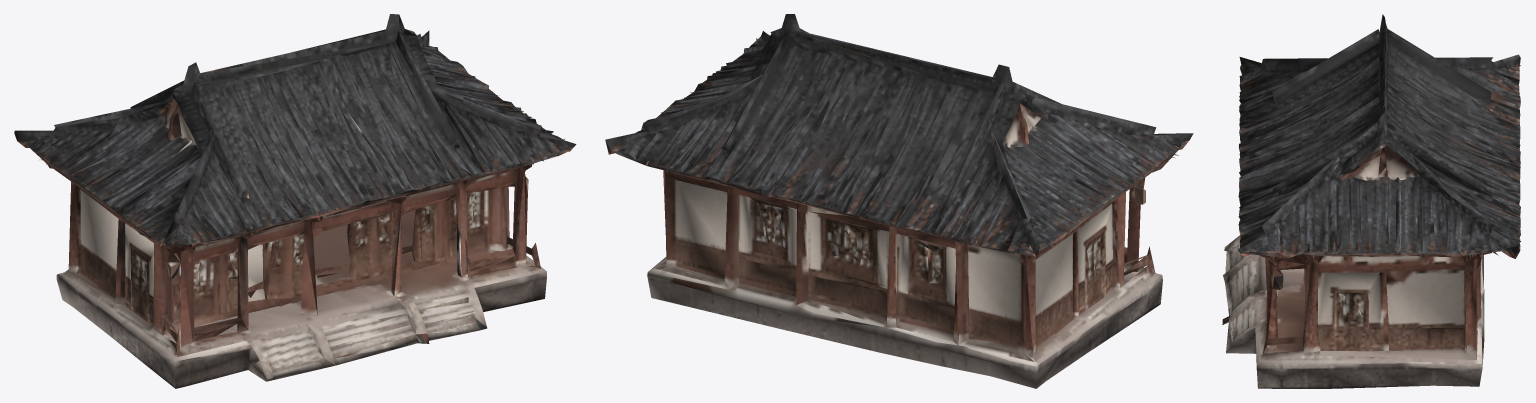
Rendered from 20_Market_Guild_Hall_LOD2.fbx.
3 renders of one model, left to right at view 1: azimuth 30°, elevation 25°; view 2: azimuth 150°, elevation 25°; view 3: azimuth 270°, elevation 25°, orthographic. The views are drawn at different scales.
Visible parts, largest first — view 1: 20_Market_Guild_Hall_L2; view 2: 20_Market_Guild_Hall_L2; view 3: 20_Market_Guild_Hall_L2.
Part boxes in pixels (x1=…): 20_Market_Guild_Hall_L2: x1=14, y1=14, x2=576, y2=388; 20_Market_Guild_Hall_L2: x1=605, y1=14, x2=1193, y2=388; 20_Market_Guild_Hall_L2: x1=1222, y1=14, x2=1520, y2=388.
Bounding box in the file's own units: 15.18 × 9 × 10.05.
